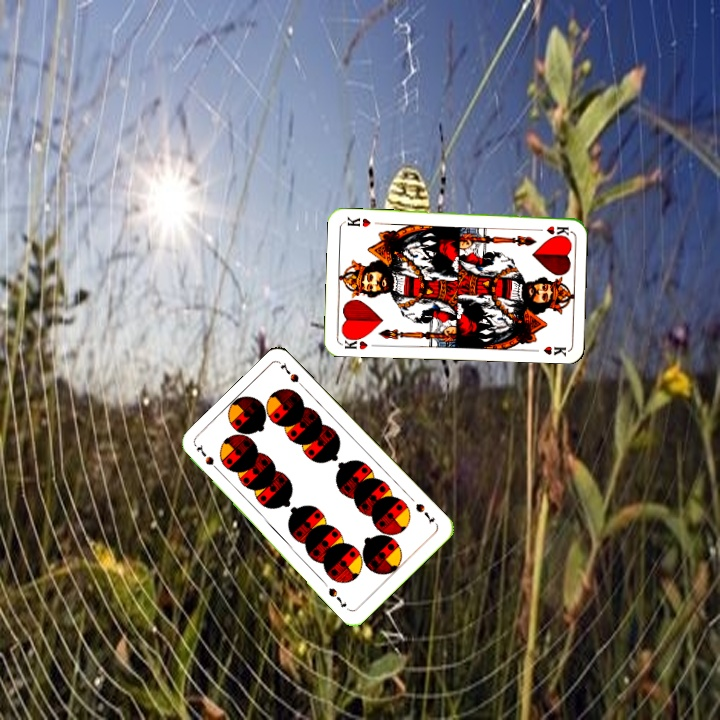HK: (531, 222, 571, 238), (339, 332, 370, 352)
S7: (192, 441, 224, 475), (411, 499, 437, 527)
